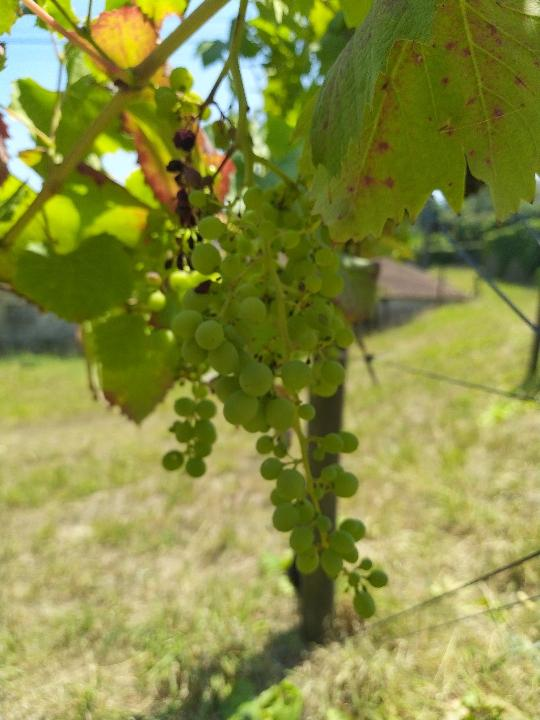grape: (172, 177, 390, 621)
